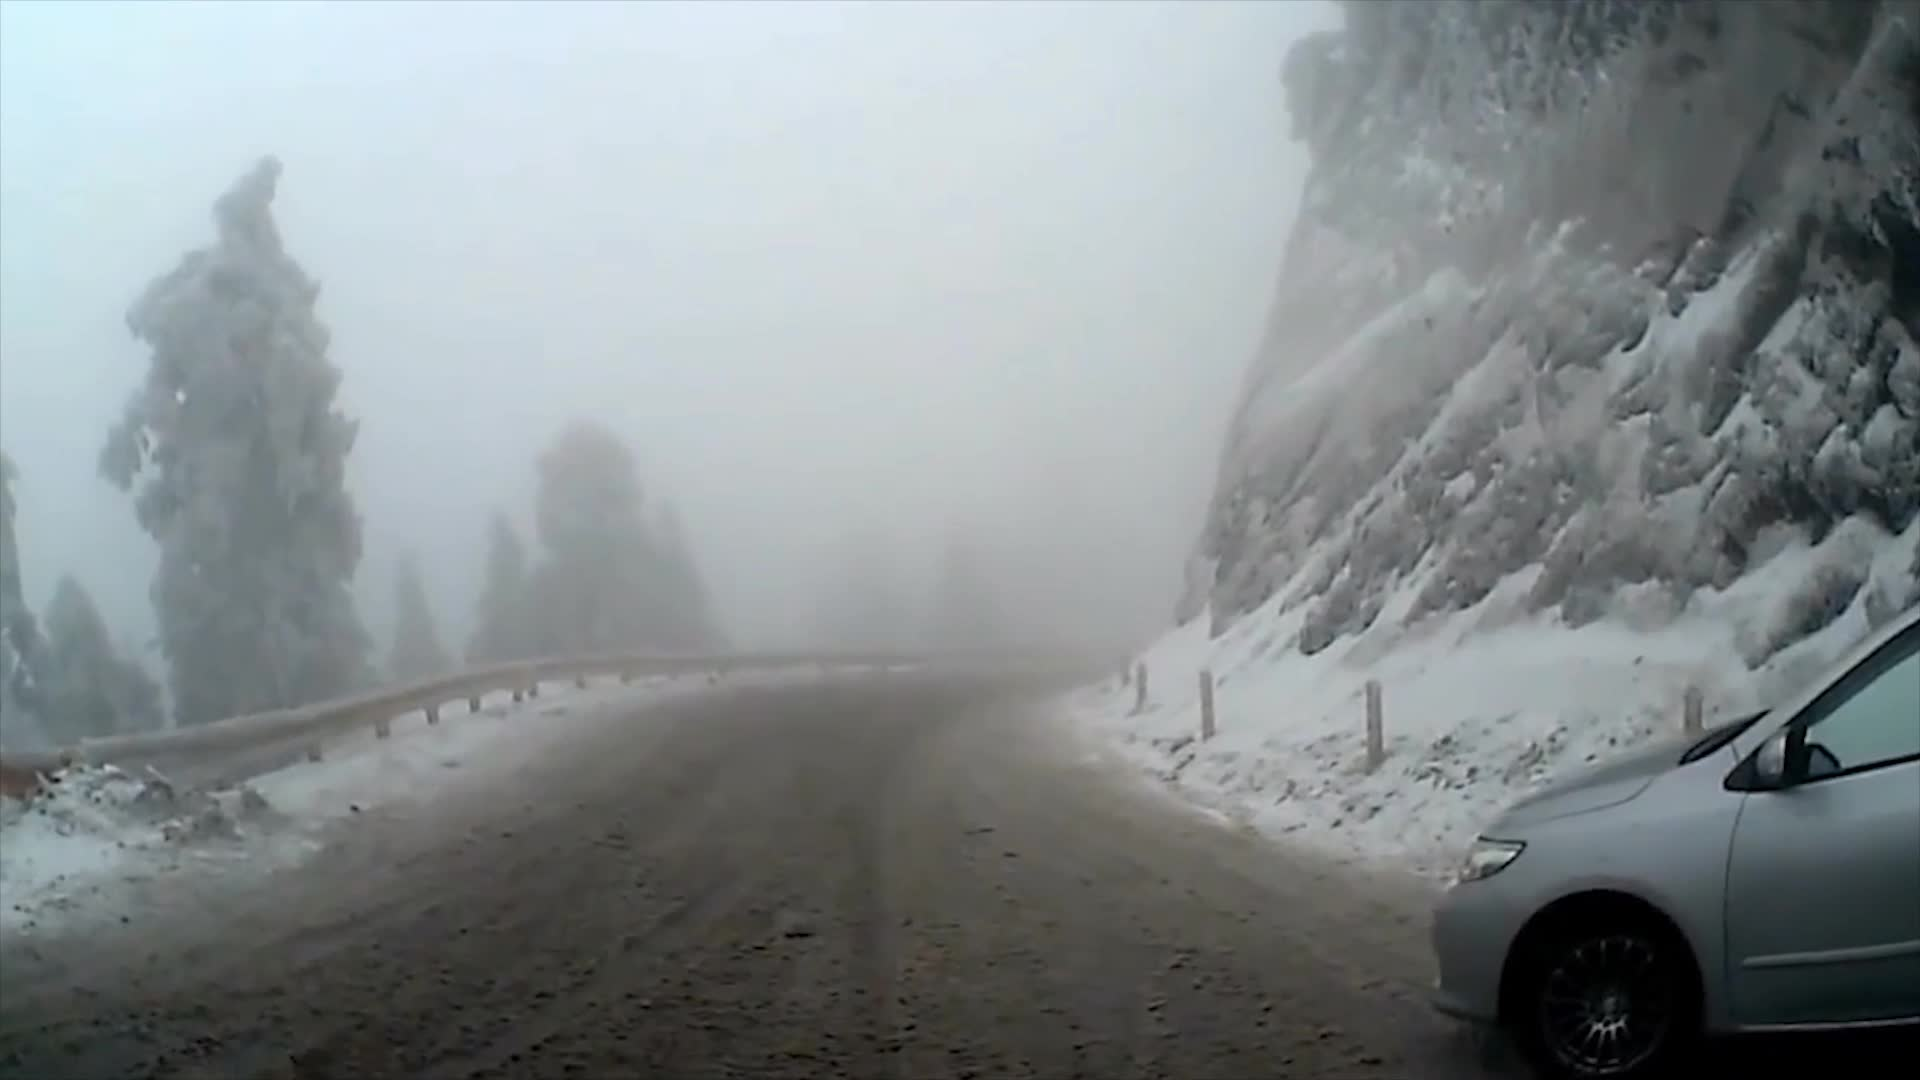vehicle: (1429, 603, 1920, 1080)
